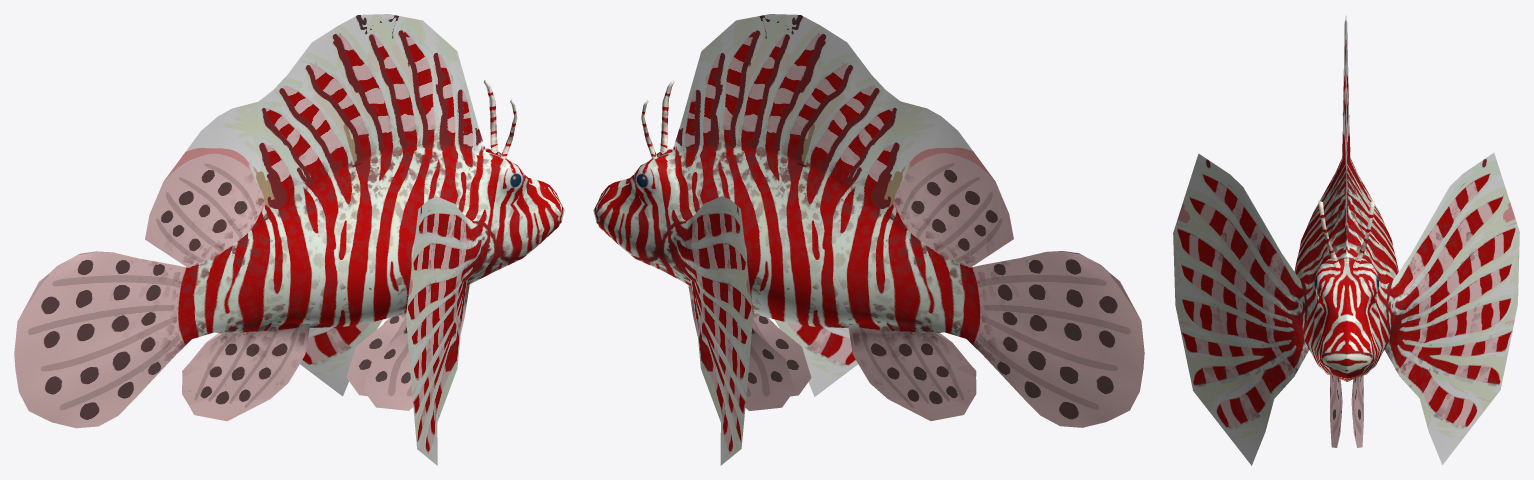
File: Lionfish00.fbx
3 renders of one model, left to right at view 1: azimuth 30°, elevation 25°; view 2: azimuth 150°, elevation 25°; view 3: azimuth 270°, elevation 25°, orthographic.
Parts seen in each view (by area): view 1: Lionfish_final; view 2: Lionfish_final; view 3: Lionfish_final.
Part boxes in pixels (x1,y1,x2,y2): Lionfish_final: (14, 14, 564, 465); Lionfish_final: (593, 14, 1144, 465); Lionfish_final: (1173, 15, 1519, 465).
Bounding box in the file's own units: 243 × 181 × 132.
